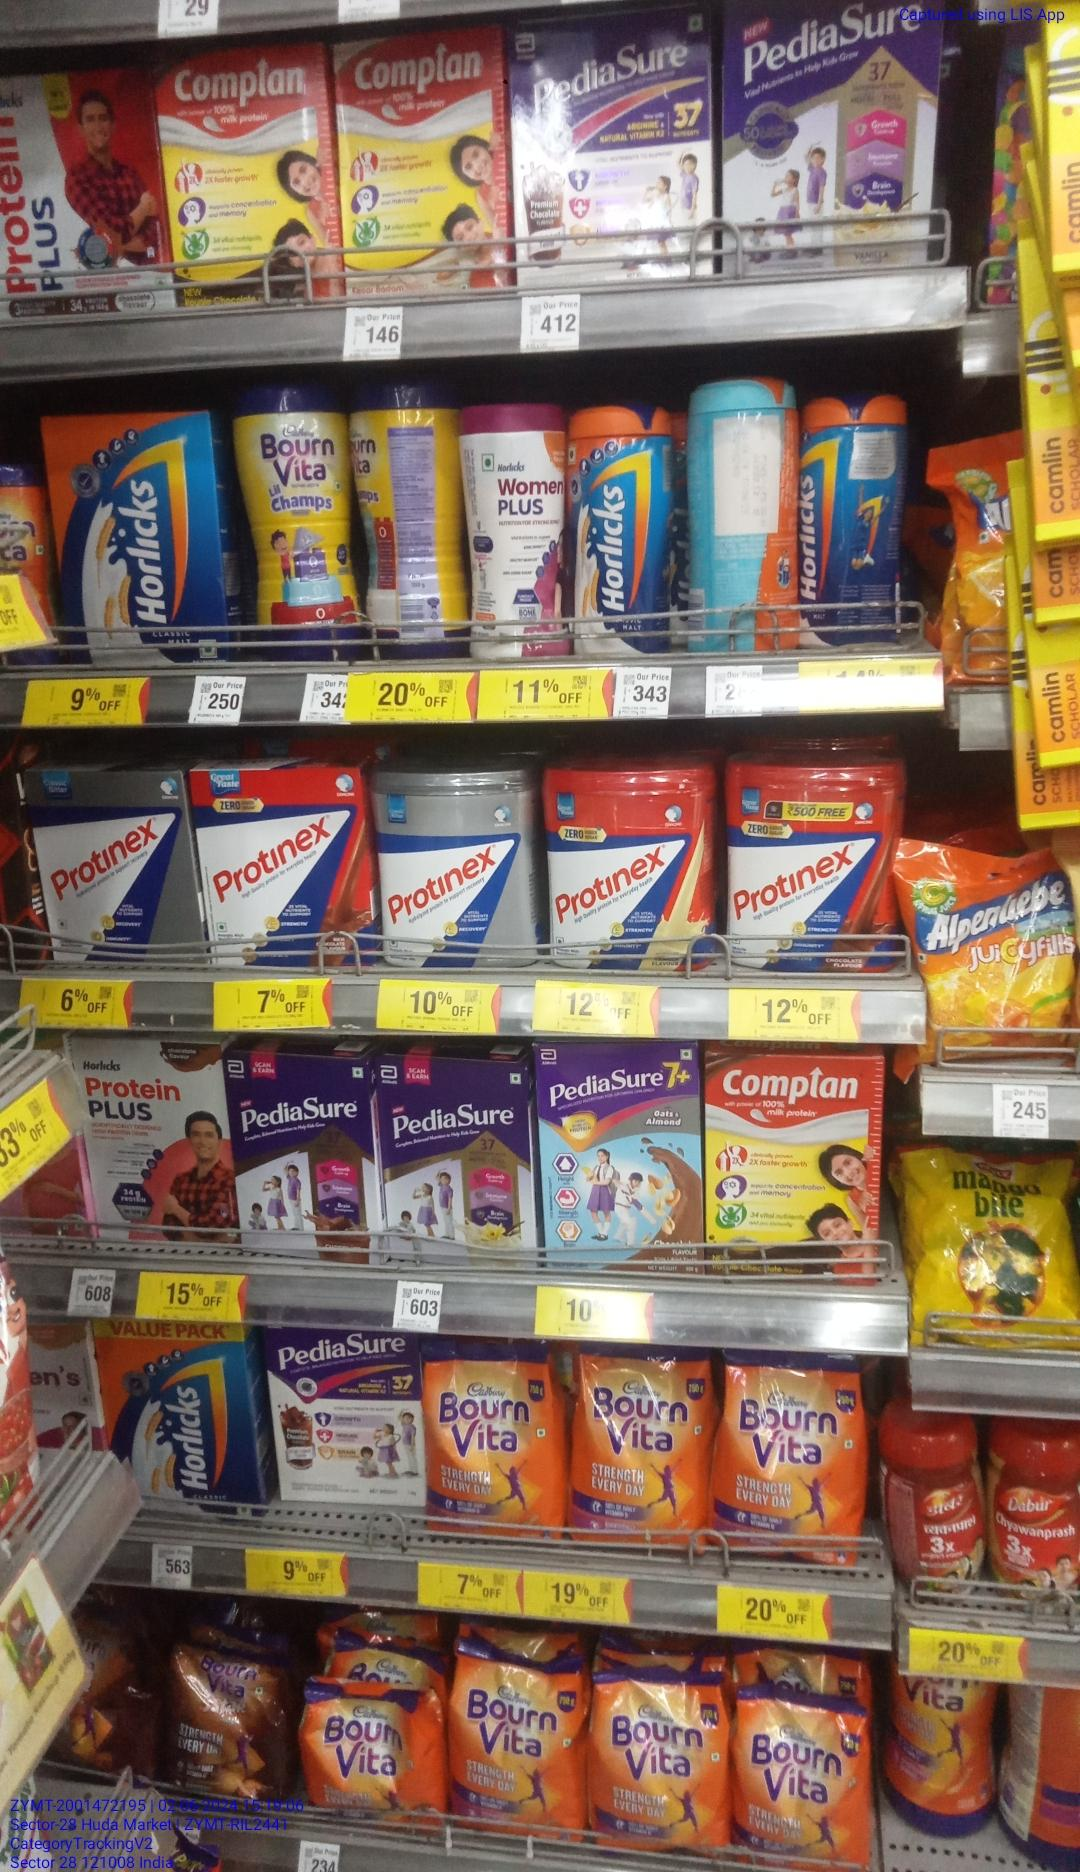BOURN_VITA_500_G_POUCH: (305, 1684, 438, 1823)
BOURN_VITA_750_G_POUCH: (715, 1347, 860, 1566), (572, 1346, 708, 1549), (426, 1346, 564, 1542), (447, 1643, 582, 1839), (735, 1686, 865, 1868), (590, 1677, 726, 1848)
BOURN_VITA_CHAMPS_500_G_JAR: (247, 386, 356, 661)
BOURN_VITA_FIVE_STAR_MAGIC_500_G_POUCH: (168, 1643, 283, 1799)
HORLICK_CLASSIC_MALT_500_G_JAR: (567, 404, 667, 656)
HORLICK_CLASSIC_MALT_500_G_PACK: (57, 413, 222, 663)
PEDIASURE_7_PLUS_CHOCOLATE_400_G_PACK: (540, 1045, 702, 1278)
PEDIASURE_CHOCOLATE_500_G_PACK: (231, 1053, 372, 1265)
PEDIASURE_VANILLA_500_G_PACK: (720, 5, 939, 271), (382, 1056, 534, 1278)
PROTINEX_CHOCOLATE_400_G_JAR: (720, 759, 895, 976)
PROTINEX_ORIGINAL_400_G_JAR: (378, 773, 537, 967)
PROTINEX_VANILLA_400_G_JAR: (546, 769, 712, 978)
